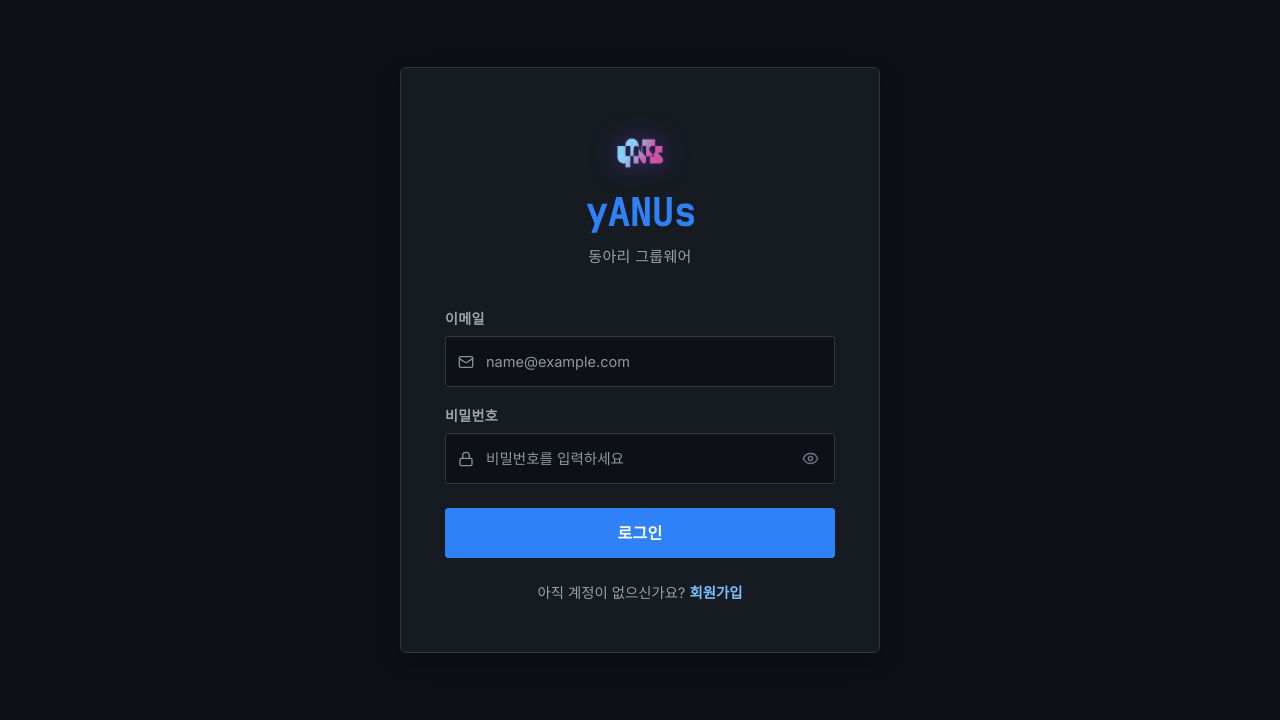
Test: 핵심 사용자 흐름 › 팀장 로그인 시 팀 관리만 보이고 관리자 메뉴는 보이지 않는다
Type "lead@yanus.kr" into the field labelled "이메일" at point(640, 362), box left=445, top=336, right=835, bottom=387
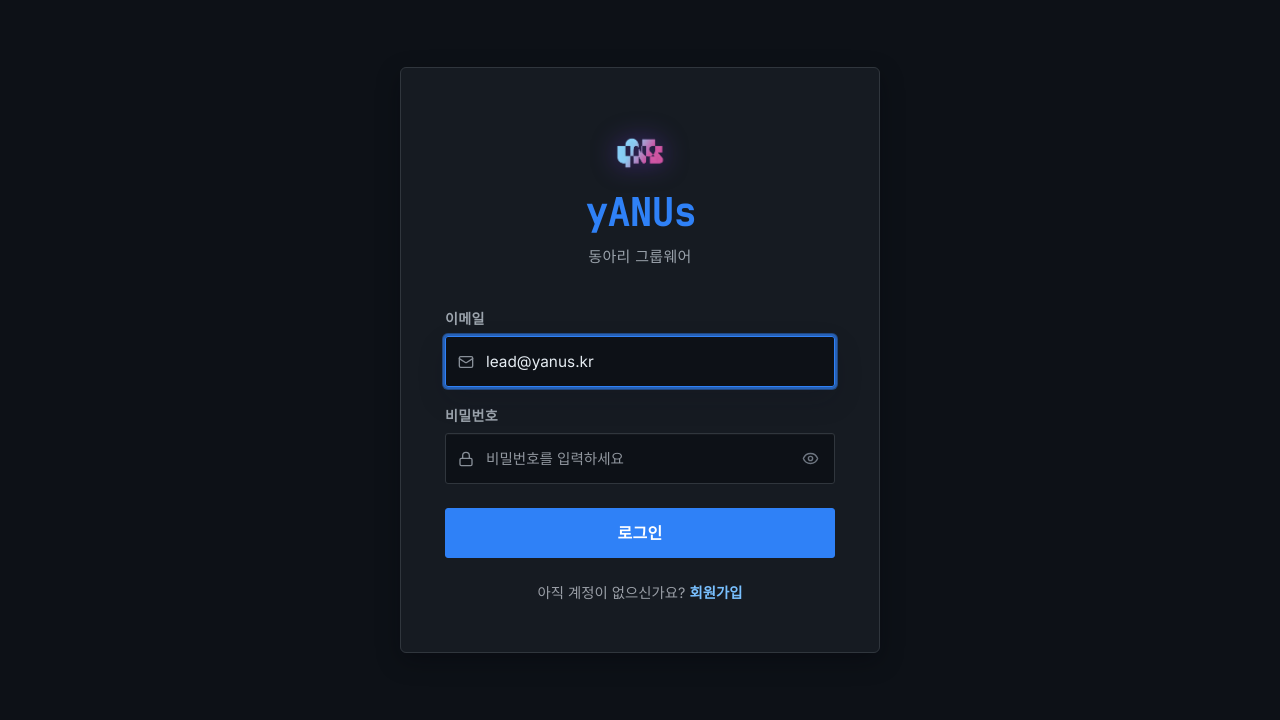
Type "password123" into the password field labelled "비밀번호" at point(640, 459), box left=445, top=433, right=835, bottom=484
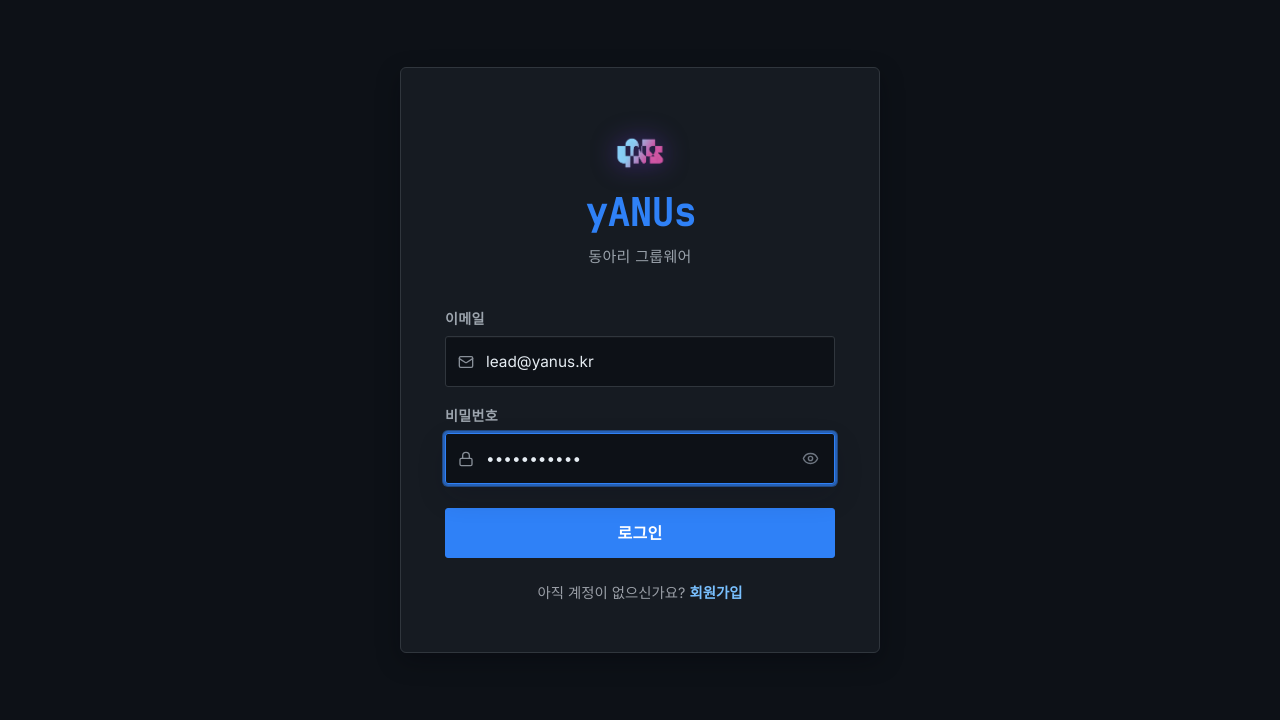
Click the button "로그인" at point(640, 533), box left=445, top=508, right=835, bottom=558
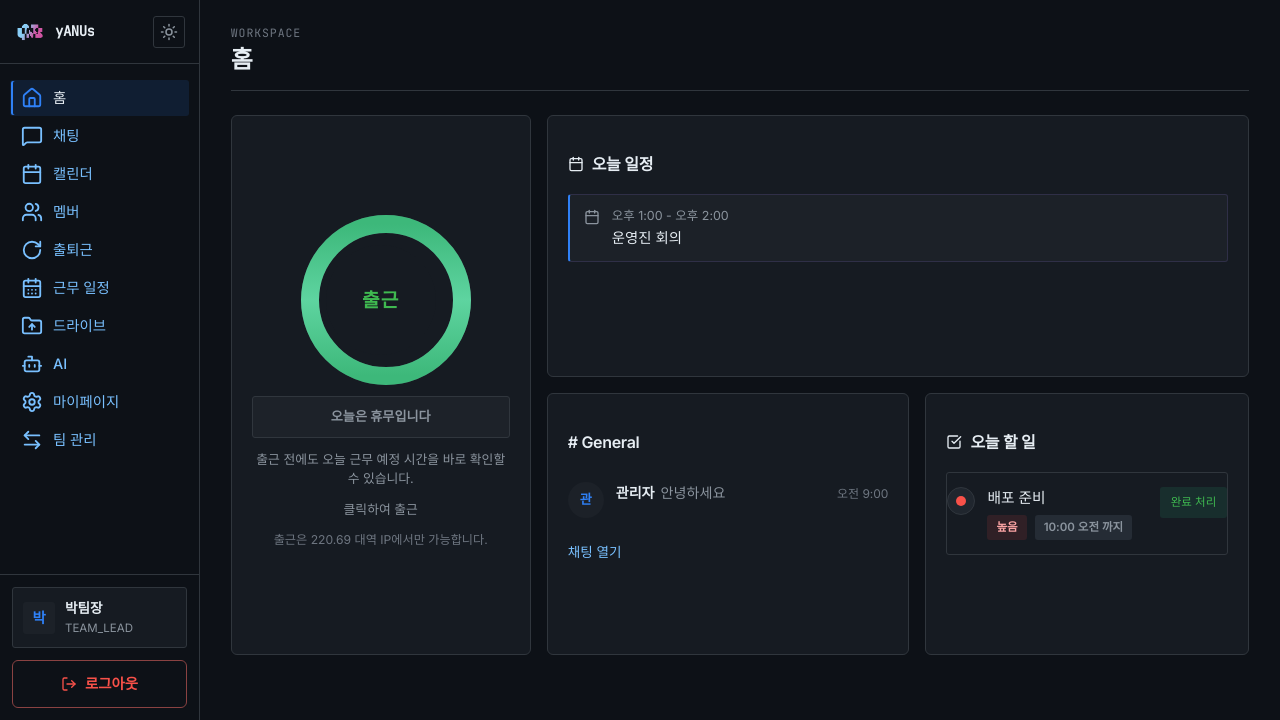
Check: the heading "오늘 일정" is shown, box left=568, top=154, right=653, bottom=174
Check: the text "팀 관리" is shown, box left=53, top=429, right=97, bottom=451
Click the link "팀 관리" at point(59, 440), box left=21, top=429, right=97, bottom=451
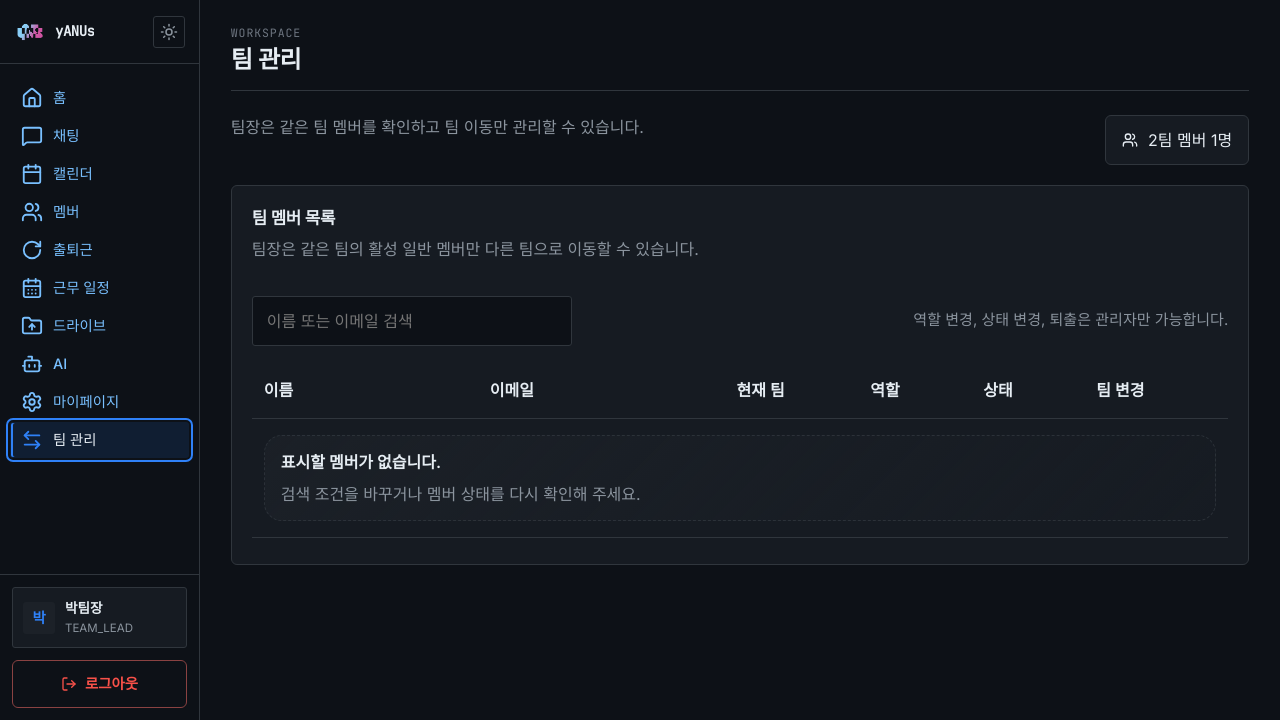
Check: the text "팀장은 같은 팀 멤버를 확인하고 팀 이동만 관리할 수 있습니다." is shown, box left=231, top=115, right=644, bottom=139
